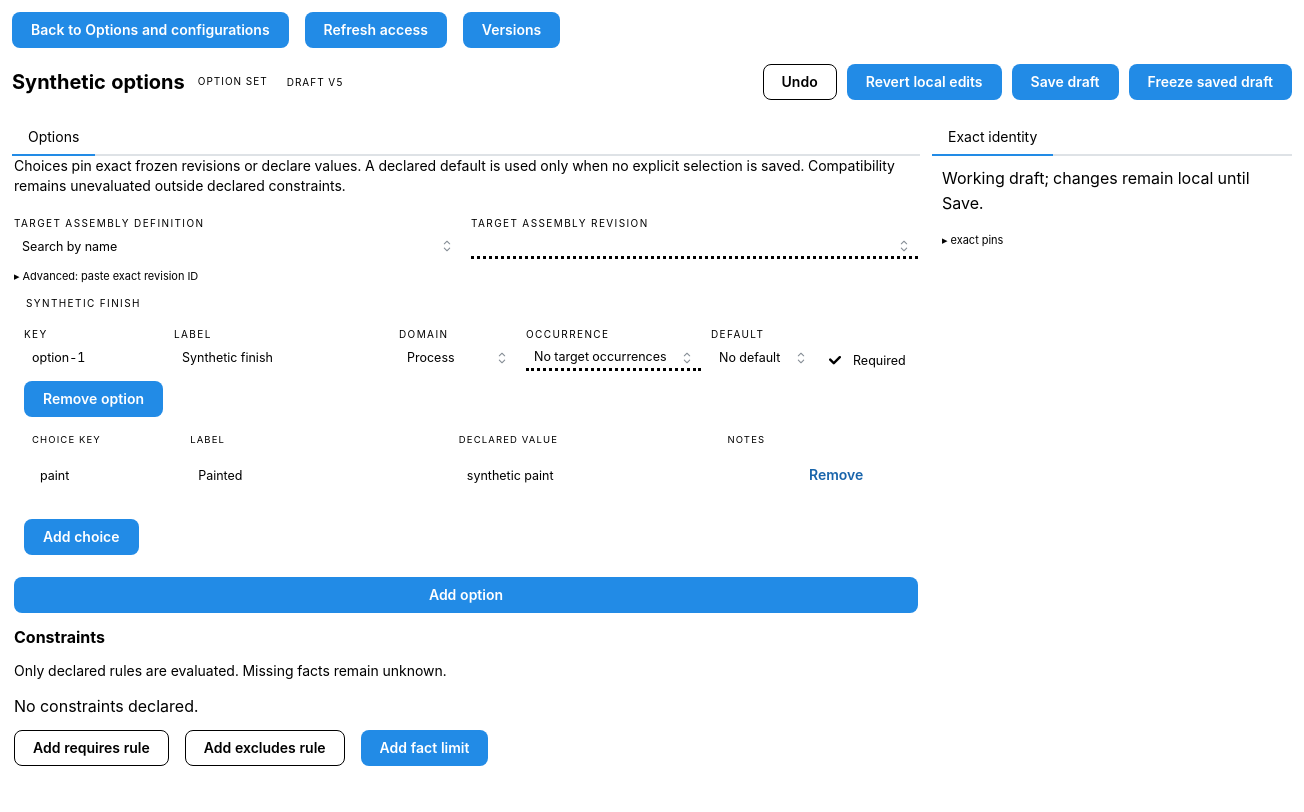
Test case: multi-keystroke option labels preserve focus without refetching authority, then Save keeps the original CAS
Replace the text in the field named "Label of Synthetic finish" with "F" at (282, 358), box 174,345 -> 389,371
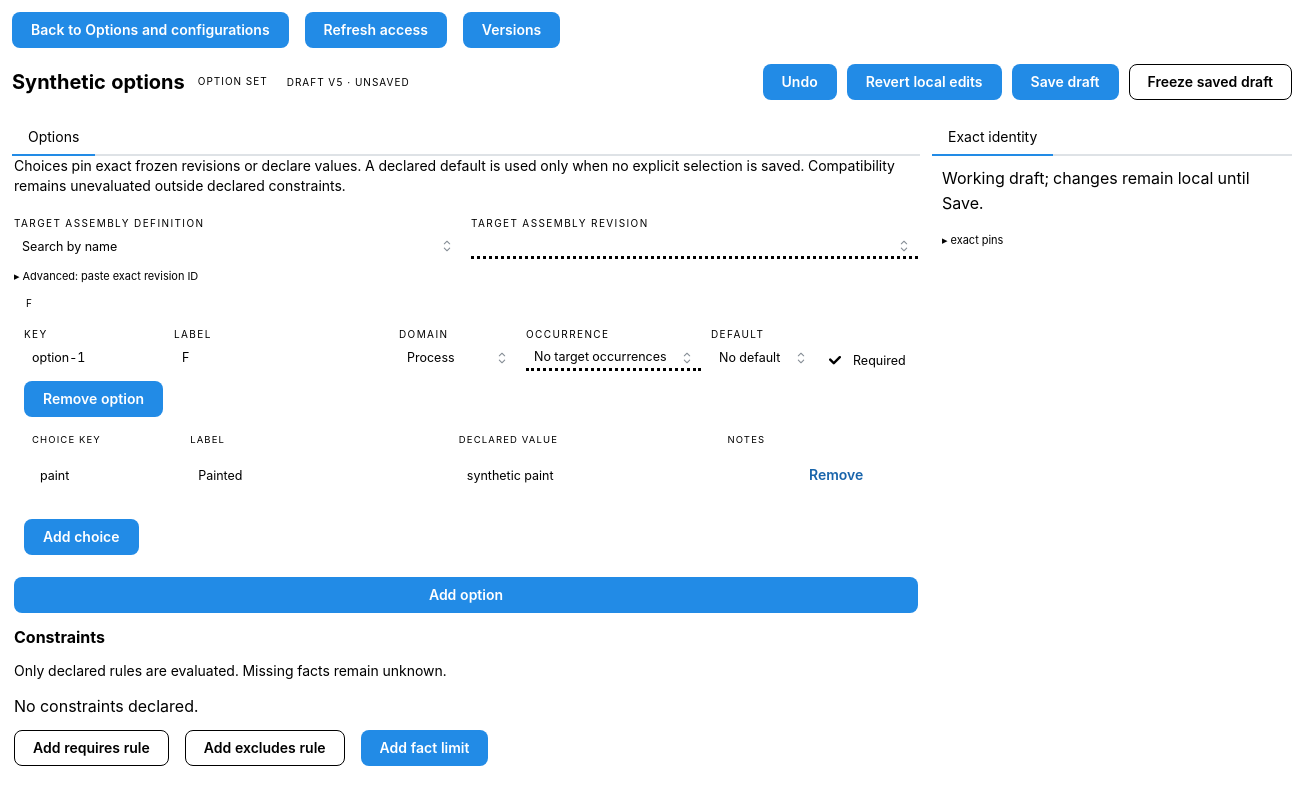
Replace the text in the field named "Label of Synthetic finish" with "Fi" at (282, 358), box 174,345 -> 389,371
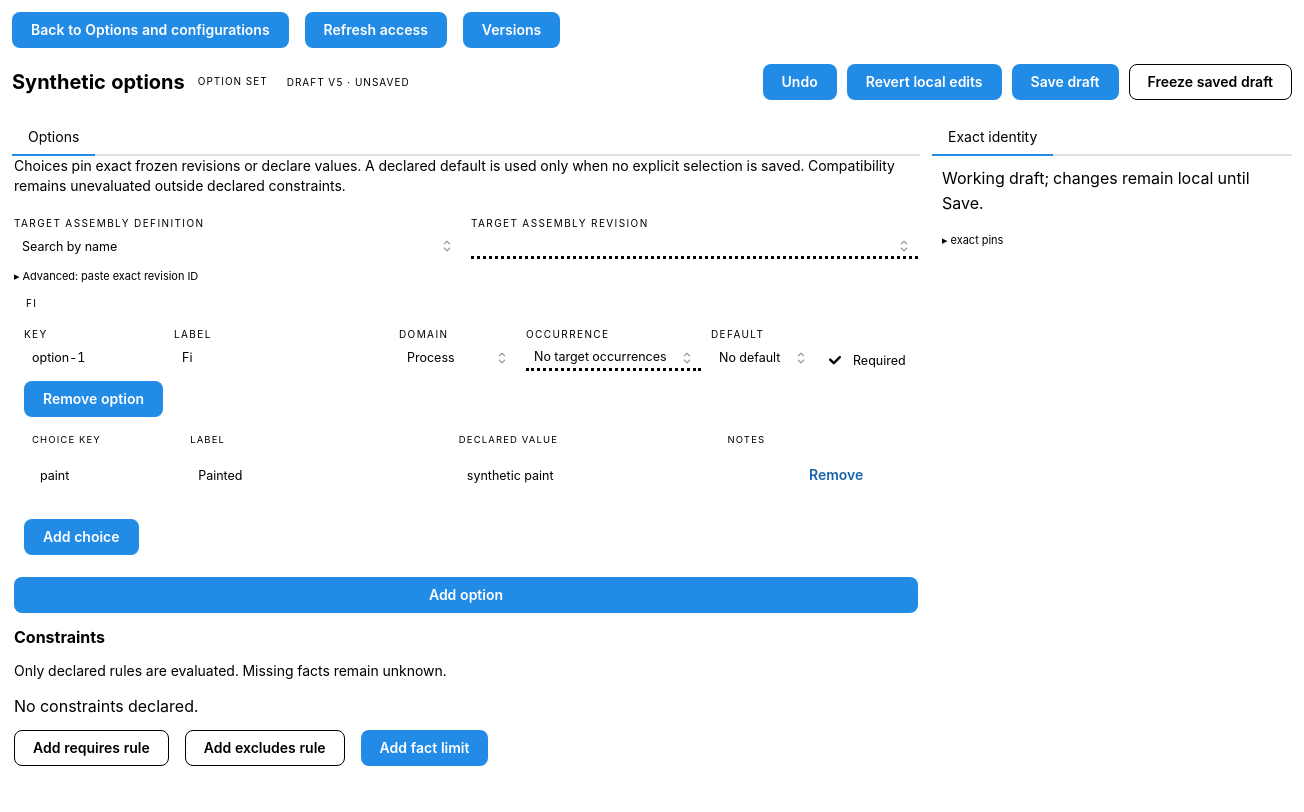
Replace the text in the field named "Label of Synthetic finish" with "Fin" at (282, 358), box 174,345 -> 389,371
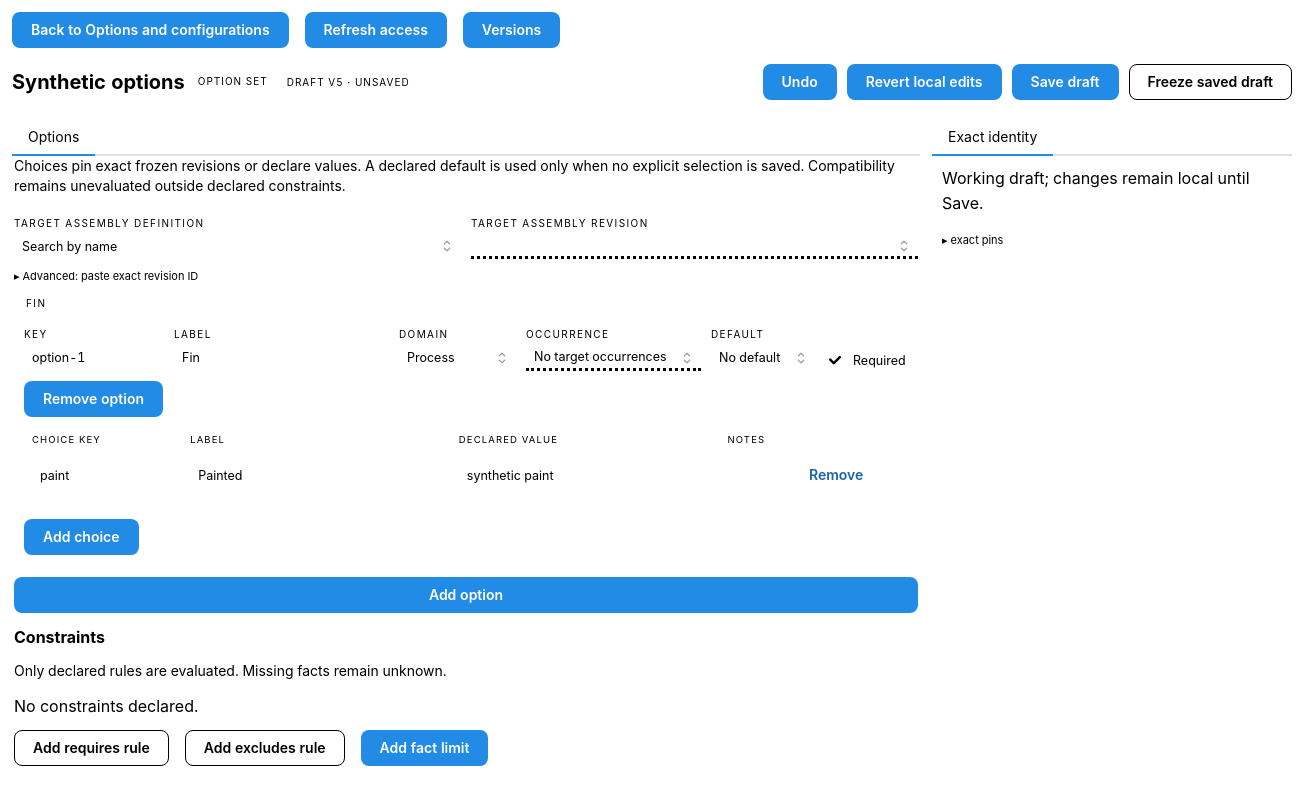
Replace the text in the field named "Label of Synthetic finish" with "Finish" at (282, 358), box 174,345 -> 389,371
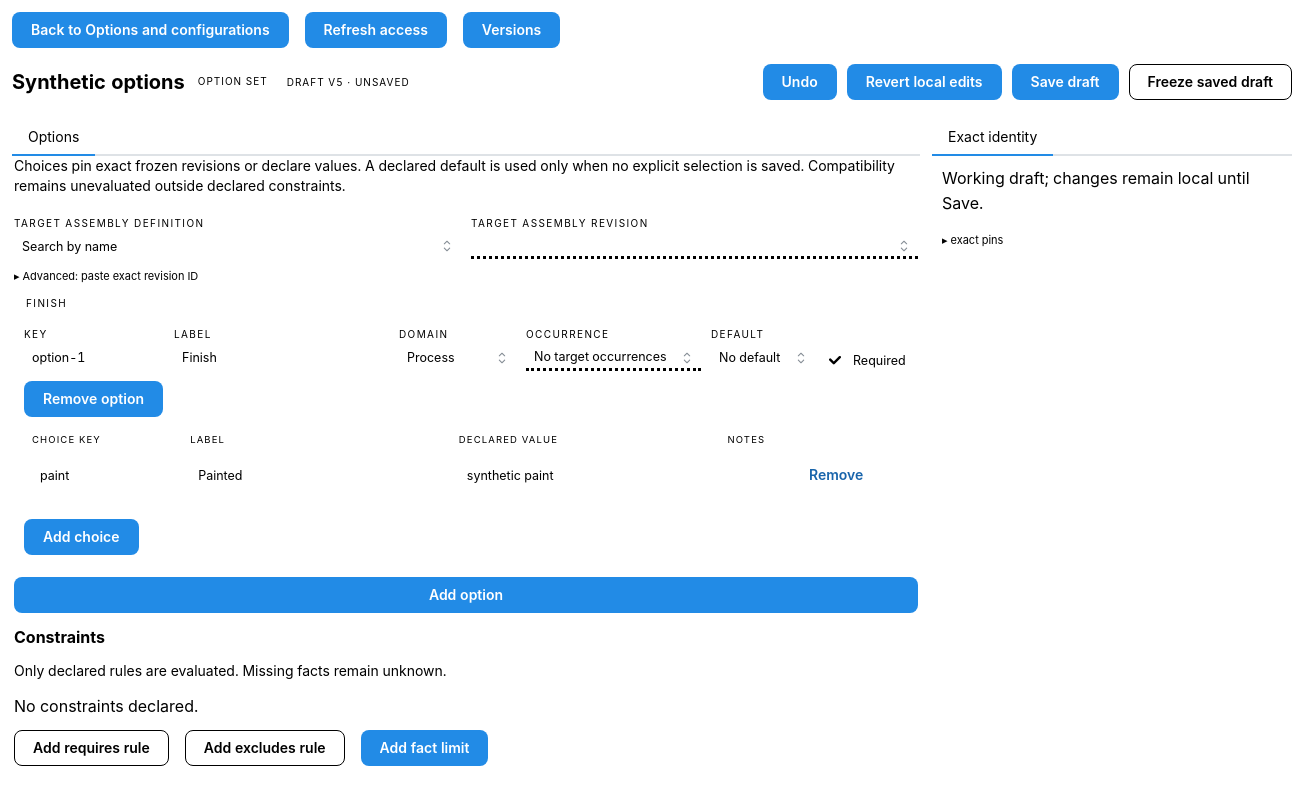
Click the button "Save draft" at (1065, 82), box 1012,64 -> 1119,100
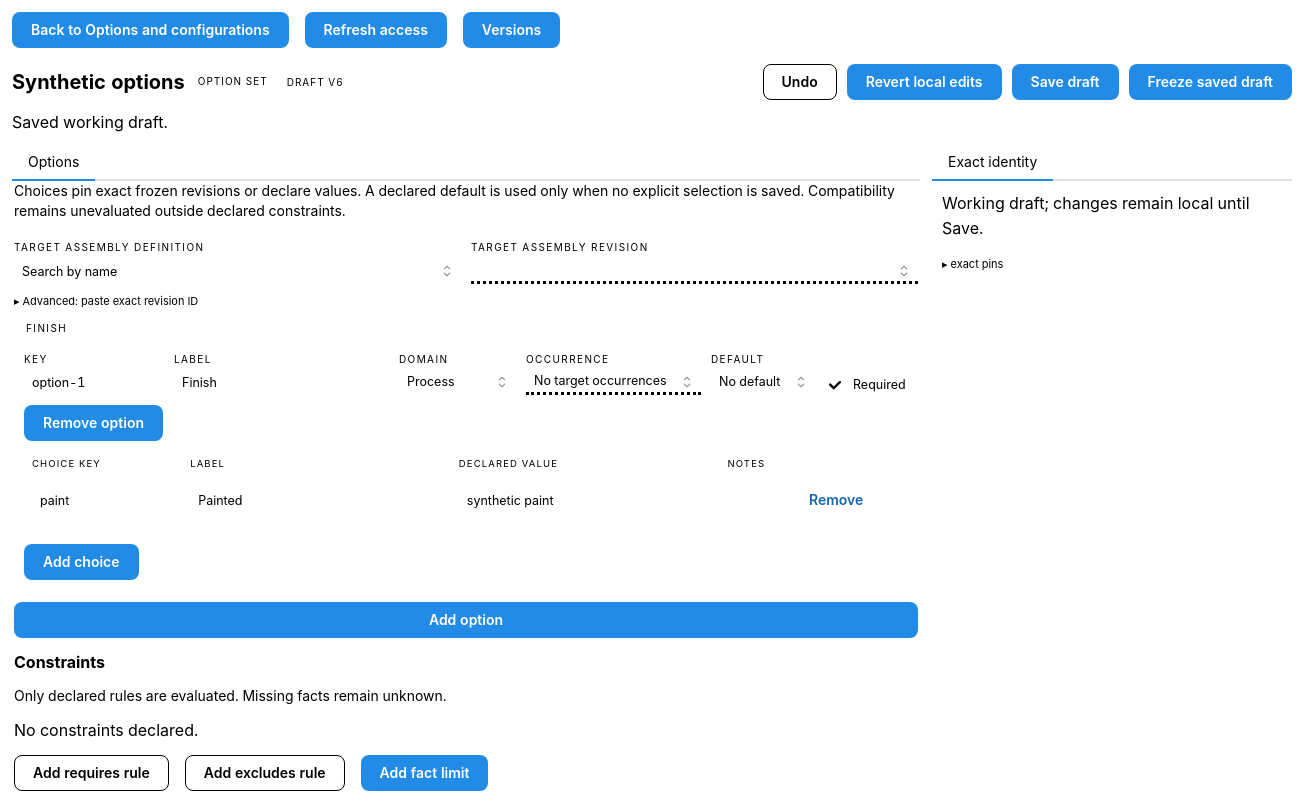
Check: the text "Saved working draft." is shown, box 12,112 -> 168,132
